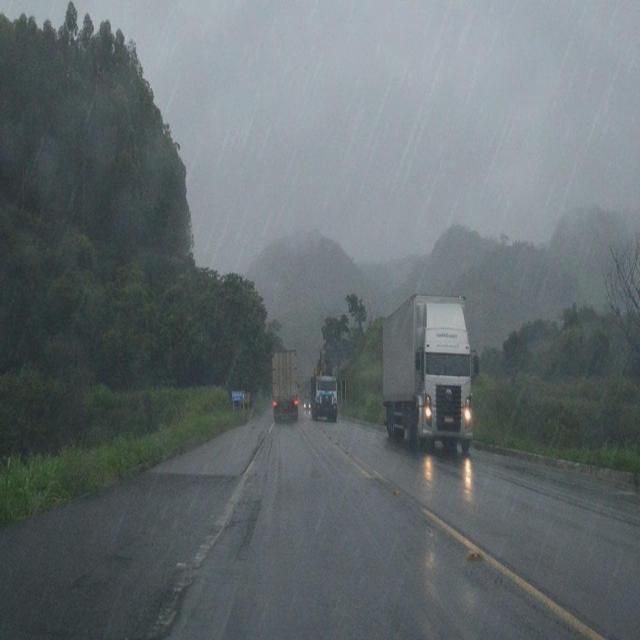Car: (303, 398, 311, 411)
Truck: (382, 290, 481, 451), (271, 349, 302, 422), (311, 371, 338, 419)
